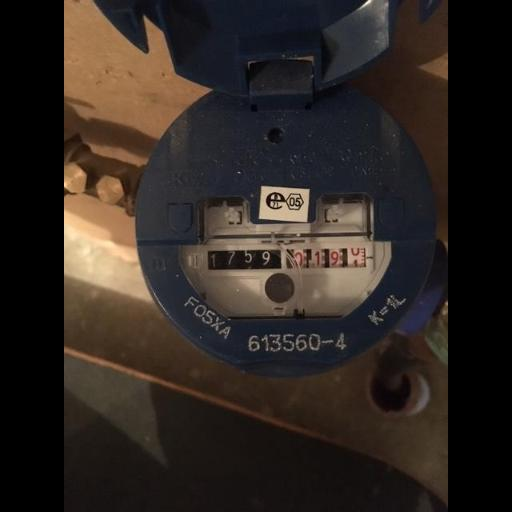0: (348, 249, 364, 267), (292, 250, 307, 268)
1: (207, 251, 223, 269), (312, 250, 327, 268)
5: (243, 251, 258, 270)
7: (226, 252, 241, 271)
9: (261, 250, 276, 269), (330, 249, 345, 268)
border_water_meter_number: (198, 241, 375, 279)
